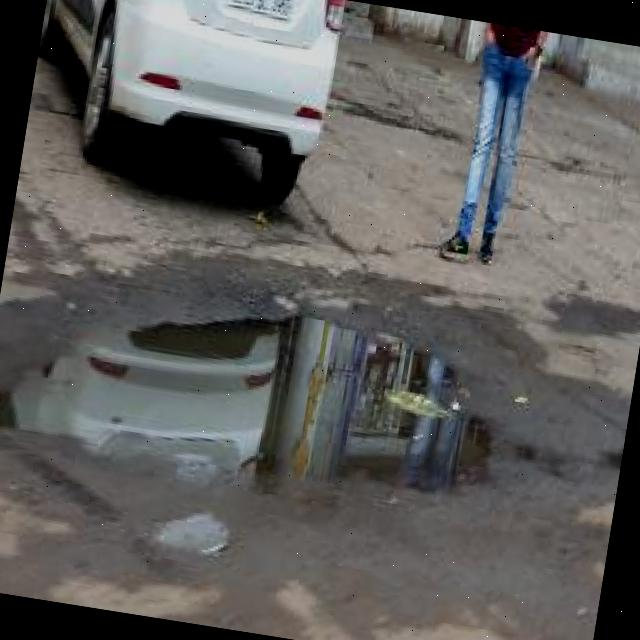waterlogging: (0, 258, 521, 532)
